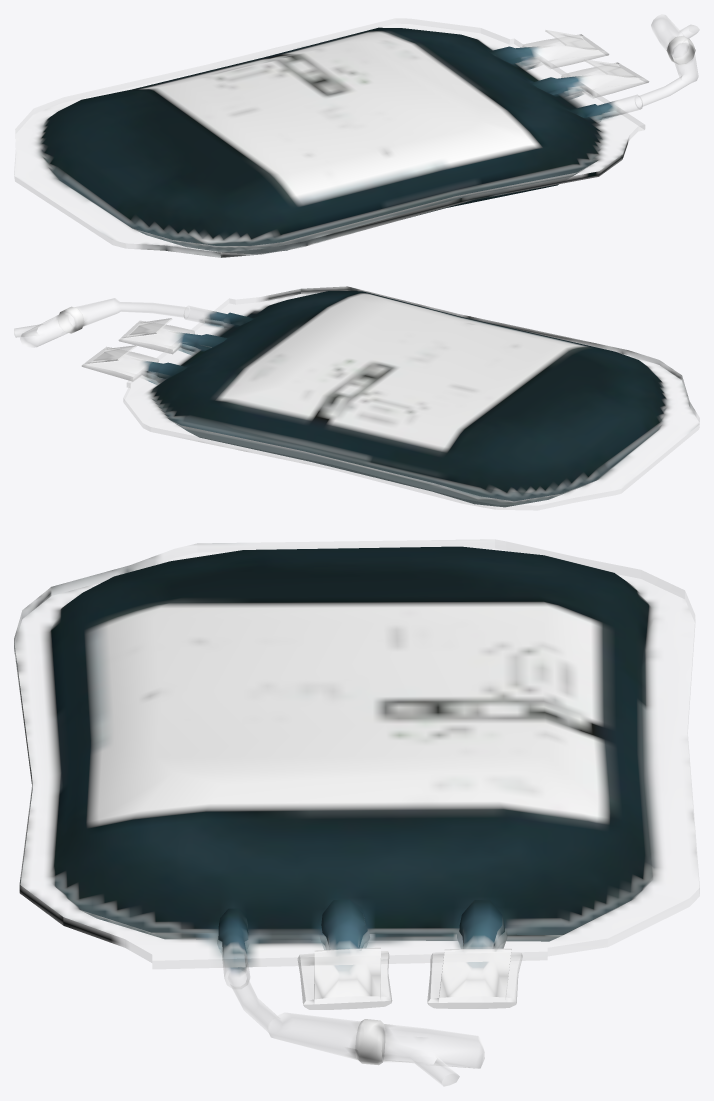
The model's file is saline_bag.0151bd807c.glb.
3 renders of one model, top to bottom at view 1: azimuth 30°, elevation 25°; view 2: azimuth 150°, elevation 25°; view 3: azimuth 270°, elevation 25°, orthographic. The views are drawn at different scales.
Parts seen in each view (by area): view 1: saline_bag; view 2: saline_bag; view 3: saline_bag.
Boxes of the visible parts, x1,y1,x2,y2 form: saline_bag: [14, 14, 699, 257]; saline_bag: [14, 286, 699, 510]; saline_bag: [14, 539, 699, 1086].
Bounding box in the file's own units: 0.24 × 0.0218 × 0.1301.
1 material, 1 textured.
